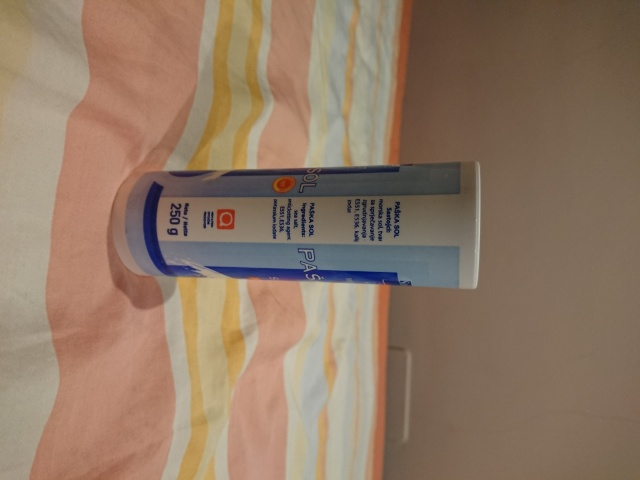Solana Pag Fine Sea Salt 250g: (108, 157, 486, 295)
